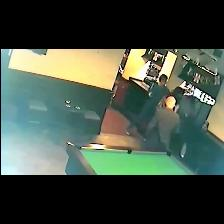person: (126, 75, 168, 134), (145, 97, 179, 150)
